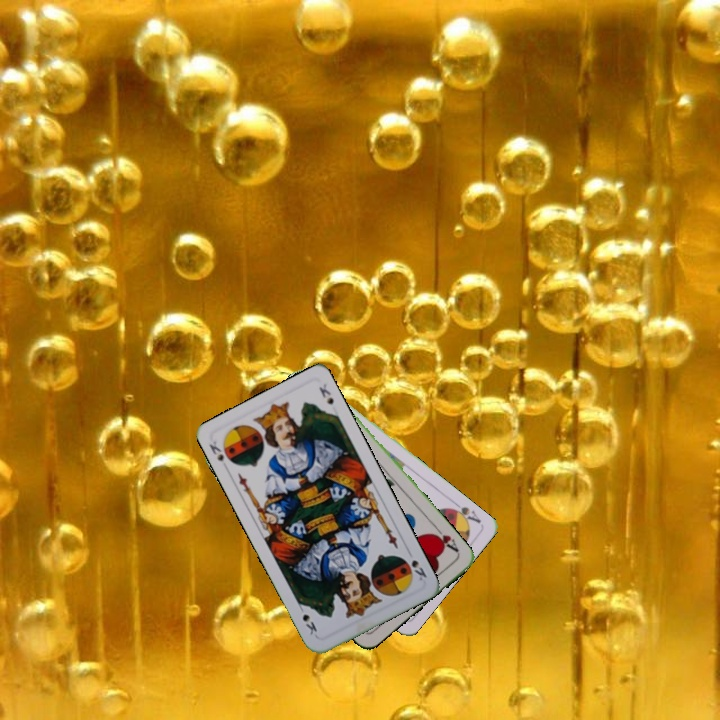HA: (428, 522, 461, 555)
SA: (445, 497, 484, 528)
SK: (205, 437, 236, 473), (407, 556, 429, 583)
